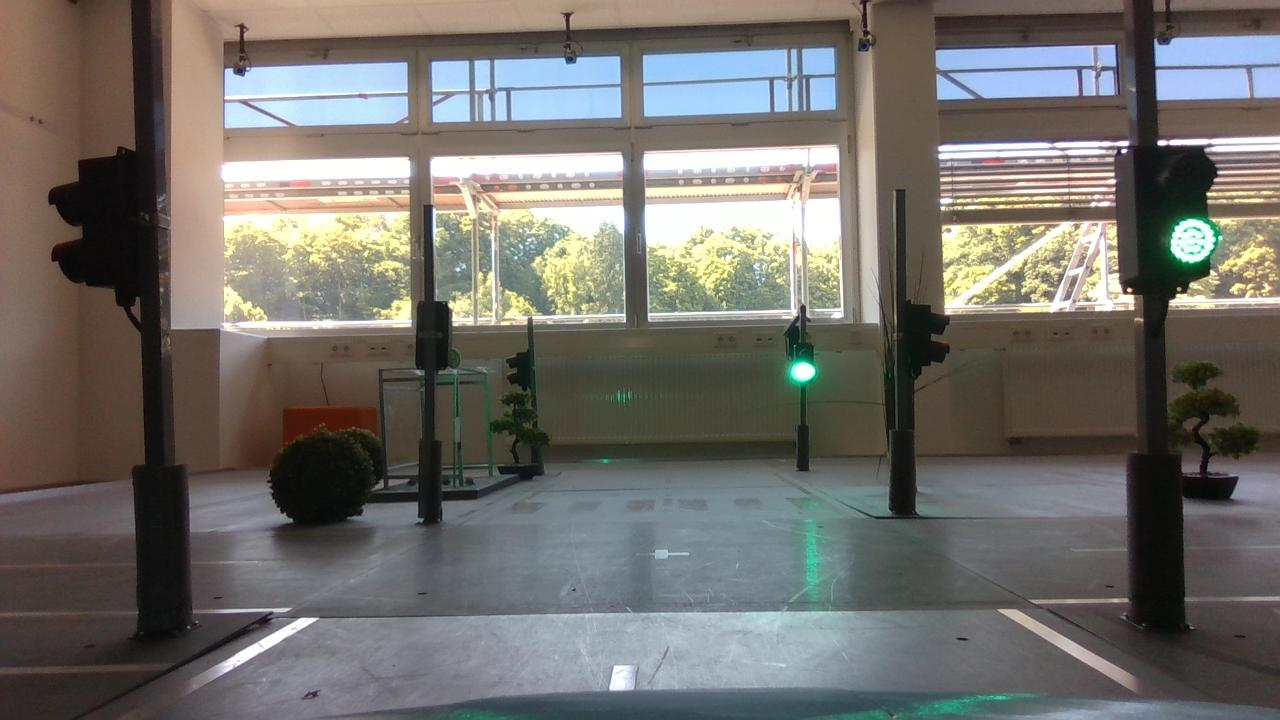traffic_light_green: (1107, 141, 1223, 301)
